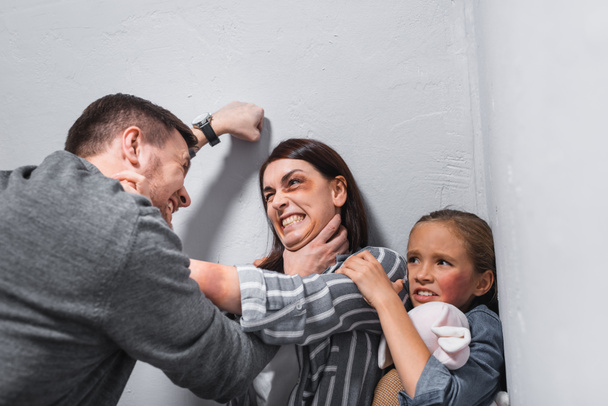handguns: (0, 94, 428, 403), (241, 139, 507, 403), (252, 134, 404, 389), (339, 208, 506, 403), (254, 137, 401, 283)
